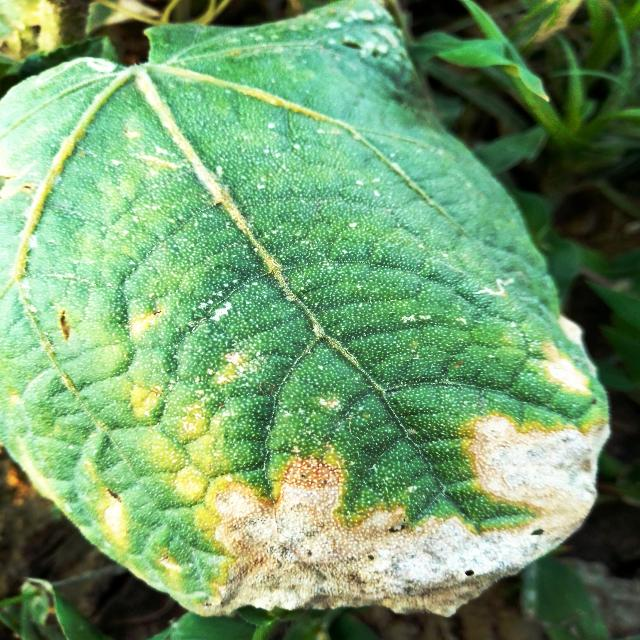Gummy-Stem-Blight: (205, 412, 612, 622)
